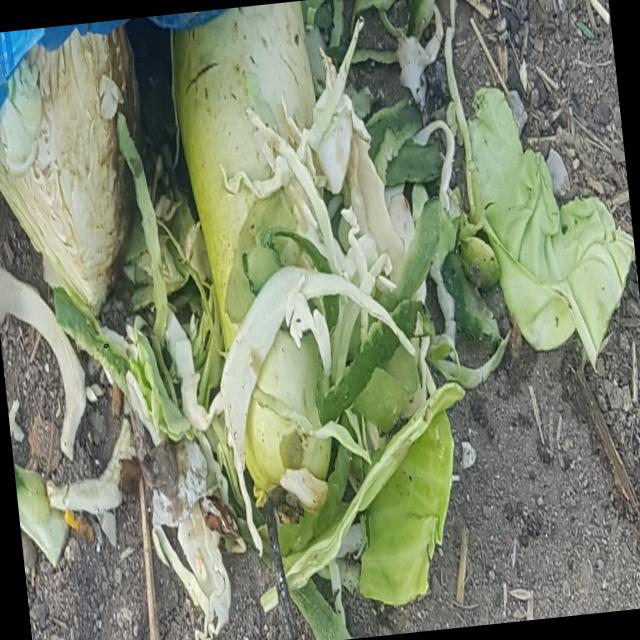paper: (207, 84, 350, 478), (5, 80, 136, 314)
